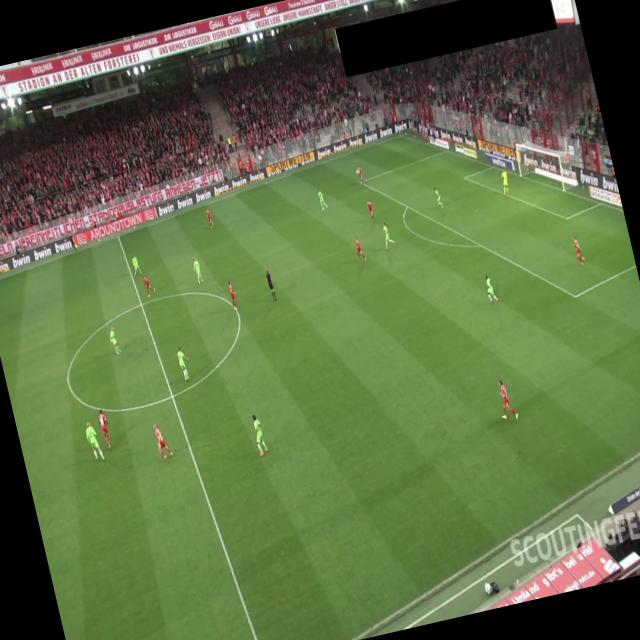goalkeeper: (498, 166, 512, 197)
player: (493, 376, 519, 423), (82, 418, 106, 462), (152, 421, 174, 461), (250, 412, 270, 456), (96, 406, 114, 451), (174, 344, 193, 381), (378, 220, 396, 250), (106, 324, 122, 355), (482, 273, 498, 304), (571, 234, 586, 266), (352, 234, 367, 262), (190, 255, 204, 284), (226, 280, 239, 310), (142, 273, 156, 297), (432, 185, 444, 210), (130, 253, 142, 276), (316, 188, 328, 210), (354, 165, 366, 186), (366, 198, 376, 222), (204, 207, 214, 229)
referee: (264, 268, 278, 301), (68, 232, 78, 252)
